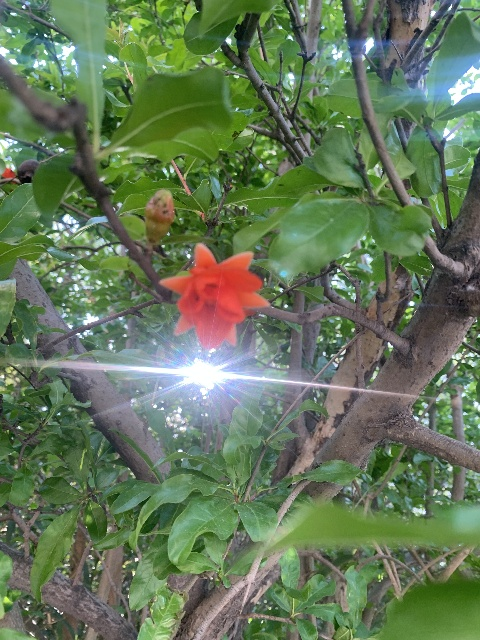bud: (144, 189, 175, 243)
flower: (159, 243, 268, 350)
